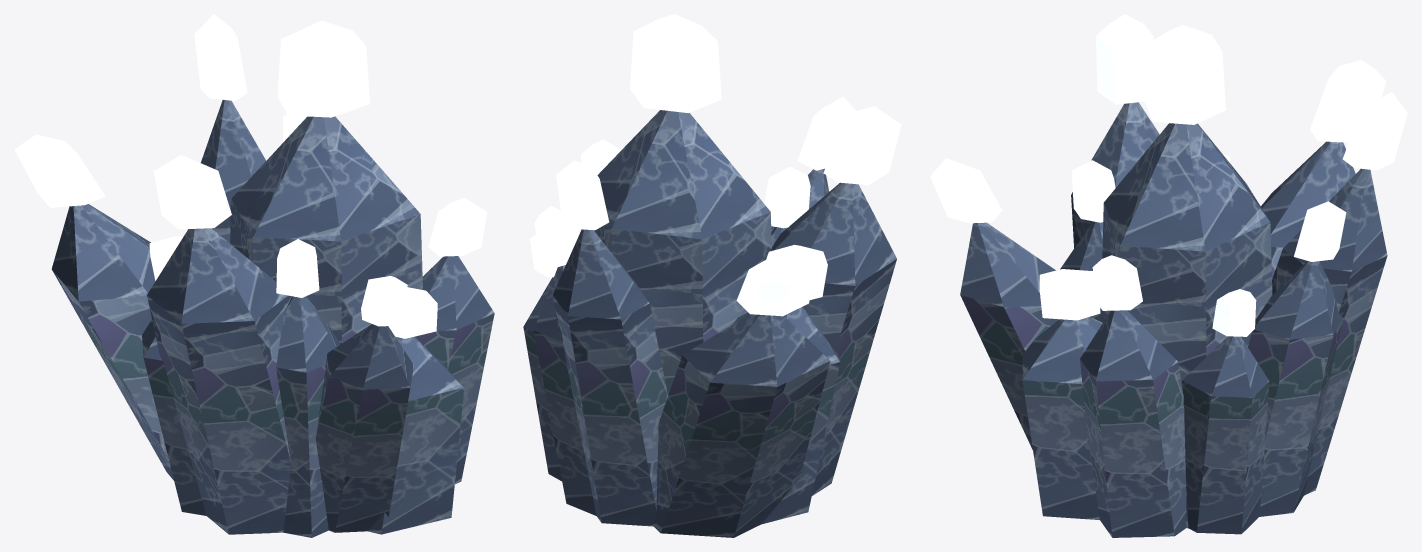
The model's file is Oracle_Crystal_Cluster_2.gltf.
3 views of the same model, side by side, from view 1: azimuth 30°, elevation 25°; view 2: azimuth 150°, elevation 25°; view 3: azimuth 270°, elevation 25° (orthographic).
Parts seen in each view (by area): view 1: Oracle_Crystal_Cluster_2; view 2: Oracle_Crystal_Cluster_2; view 3: Oracle_Crystal_Cluster_2.
Boxes of the visible parts, x1,y1,x2,y2 form: Oracle_Crystal_Cluster_2: [14, 14, 494, 537]; Oracle_Crystal_Cluster_2: [523, 14, 901, 537]; Oracle_Crystal_Cluster_2: [930, 14, 1407, 537].
Size of the model in its own units: 5 by 6.34 by 5.95.
Materials: 2 (2 with a texture image).
